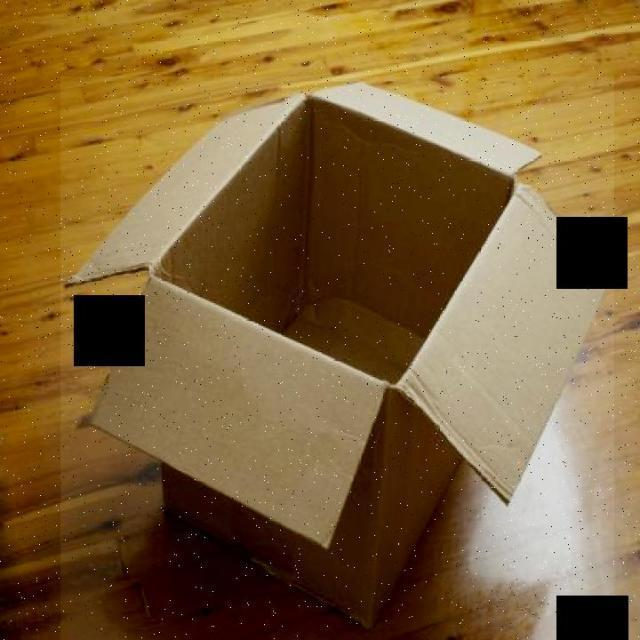box: (61, 76, 614, 640)
